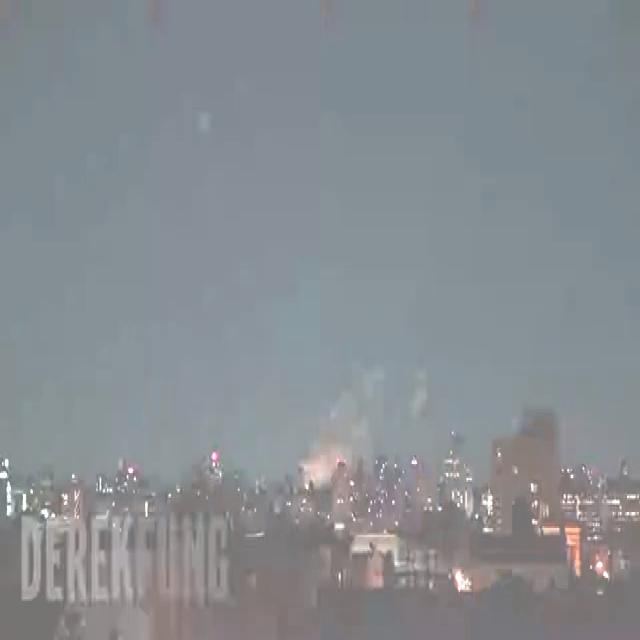smoke: (299, 366, 384, 487)
